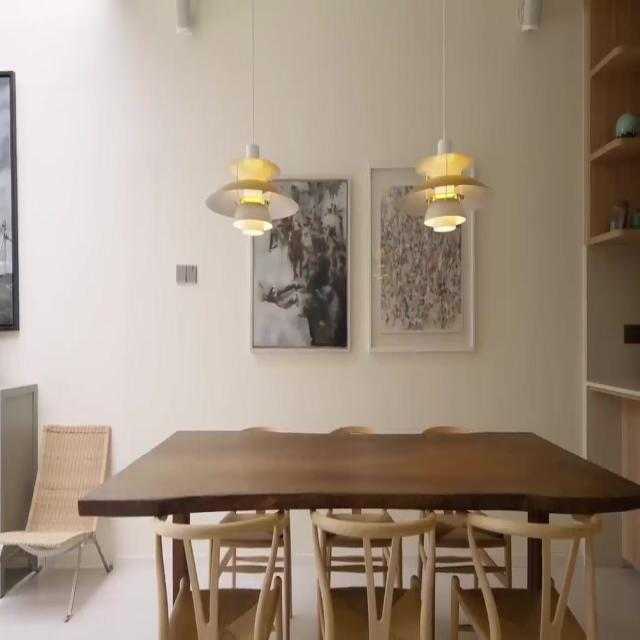obstacle: (78, 426, 639, 638), (580, 0, 639, 573), (0, 422, 113, 622), (450, 511, 602, 639), (153, 509, 289, 639), (310, 509, 436, 639)
